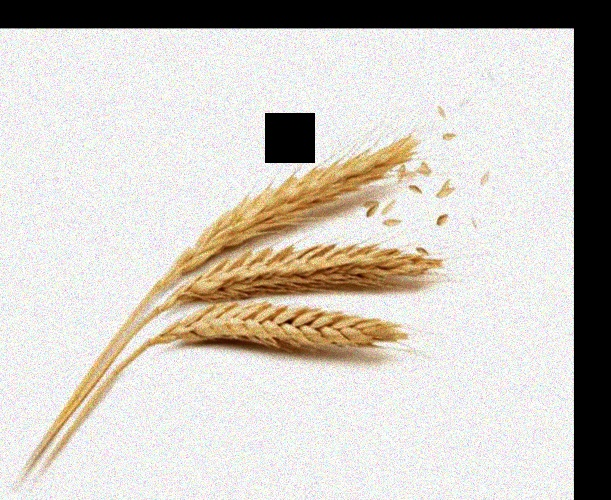wheat: (166, 132, 422, 267), (85, 297, 426, 385), (155, 235, 451, 306)
